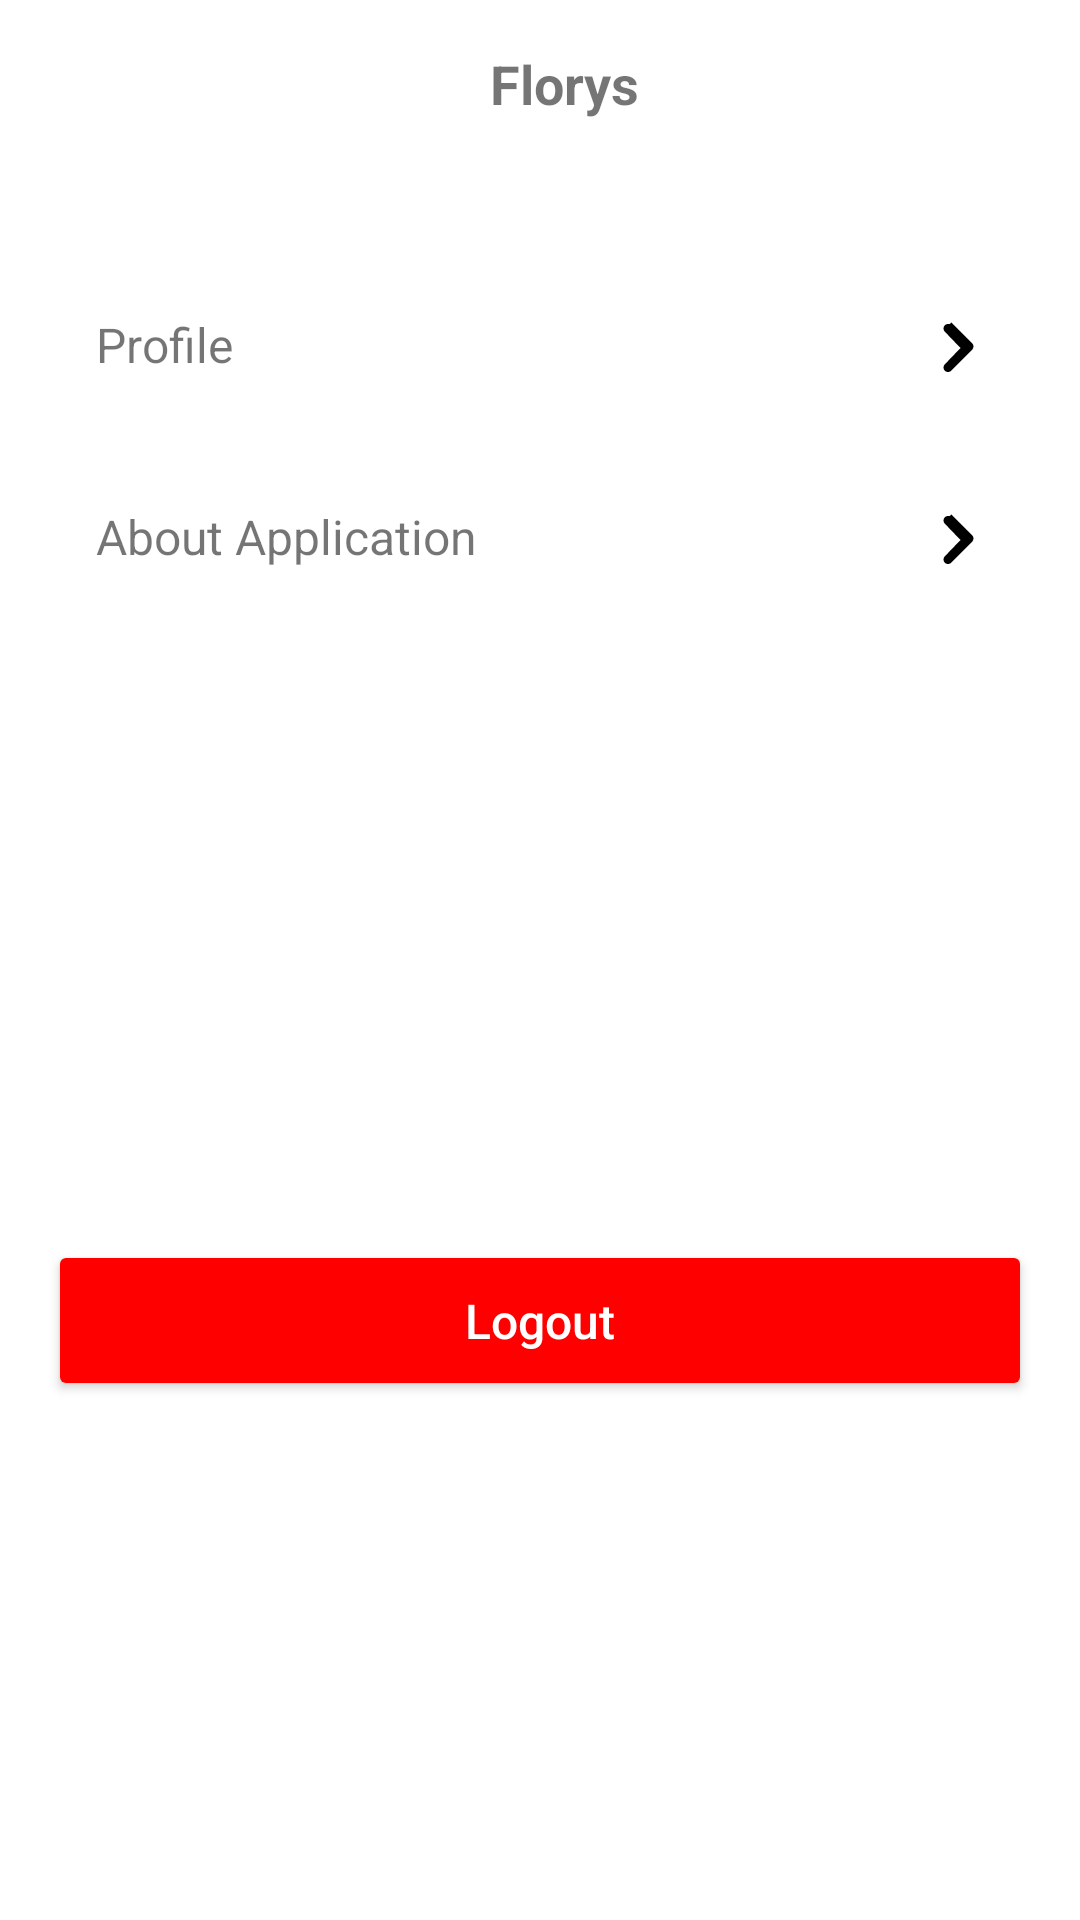

Screen size 1080×1920. Icon name, then its box in pixels as (x1, y1, x2, y2):
Arrow Right: (943, 322, 974, 372), (943, 514, 974, 564)
